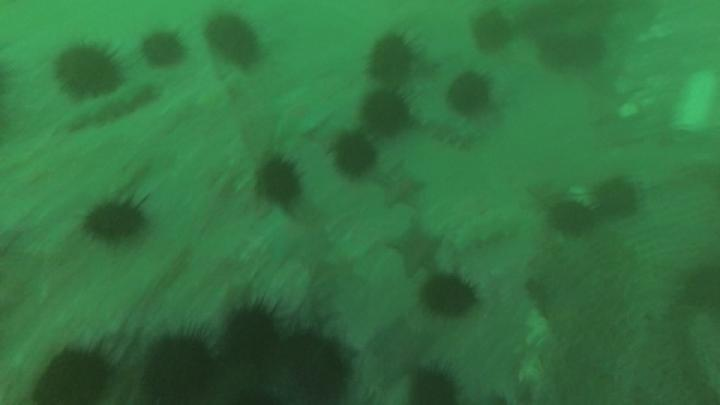echinus: (285, 337, 350, 400), (147, 337, 212, 399), (211, 358, 294, 405), (36, 356, 112, 405), (56, 45, 121, 95), (206, 17, 262, 63), (368, 35, 413, 92), (255, 155, 303, 202), (82, 204, 146, 239), (423, 276, 476, 318), (230, 306, 279, 351), (332, 134, 379, 179), (362, 92, 408, 137), (449, 70, 489, 114), (473, 14, 513, 54), (413, 371, 457, 405), (594, 175, 632, 214), (540, 34, 580, 70), (551, 204, 594, 236), (144, 33, 182, 65), (579, 30, 604, 67)
holothurian: (64, 86, 153, 132), (412, 106, 477, 151), (454, 210, 516, 253)
starfish: (370, 318, 437, 387), (391, 222, 444, 277), (383, 161, 428, 208), (529, 179, 576, 210)
